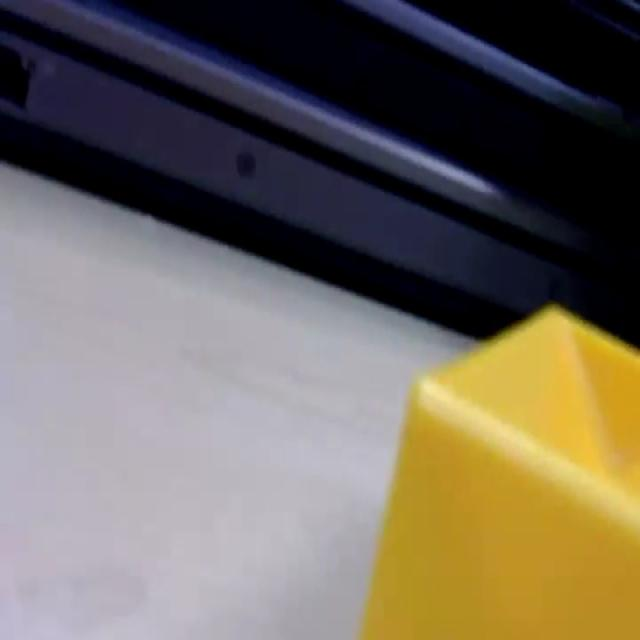yellow_block: (358, 300, 638, 636)
